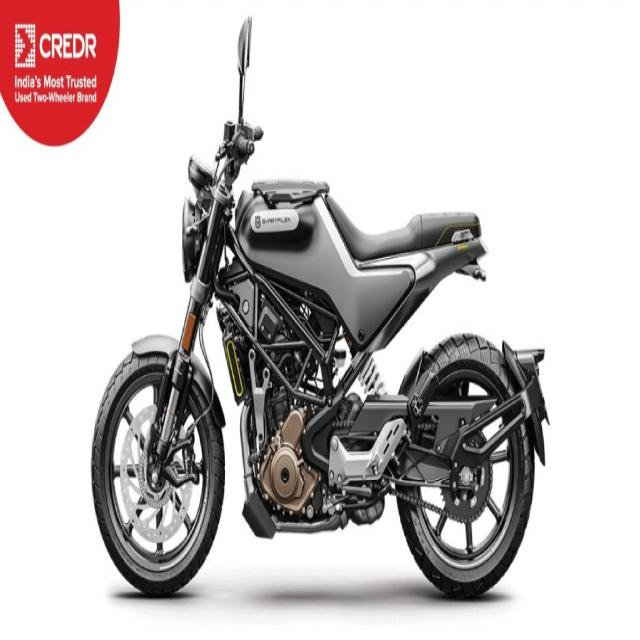motorcycle: (91, 19, 548, 597)
